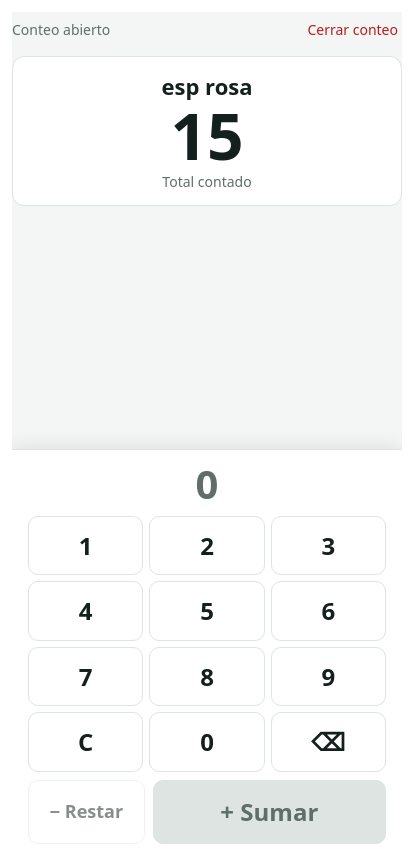
Test: Conteo · con un conteo abierto (teclado para una mano) › restar 5 (menos que el total) envía −5
The image size is (414, 856).
Click the button "5" at (207, 611), box x1=149 y1=581 x2=265 y2=641
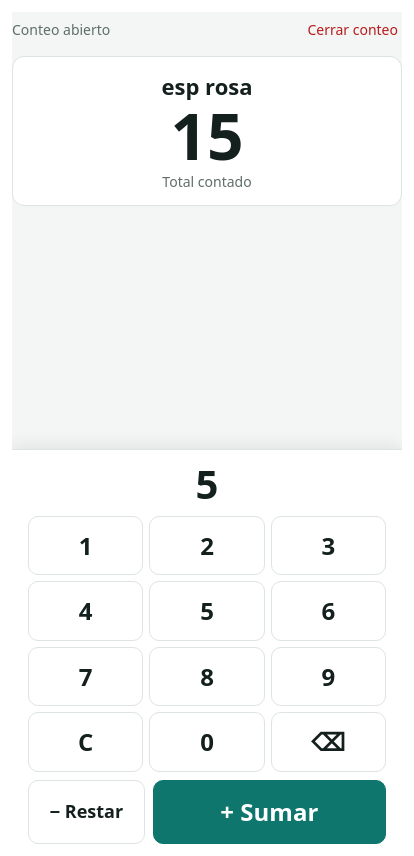
Click the button "− Restar" at (86, 812), box x1=28 y1=780 x2=145 y2=844
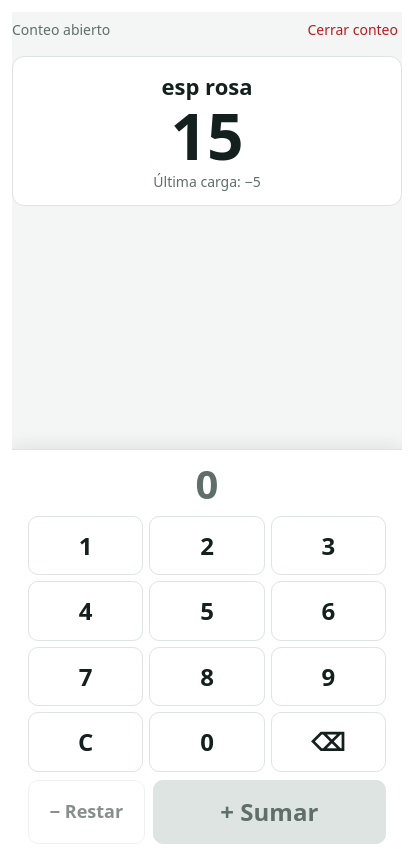
Expected: the text with class "muted" reads "Última carga: −5", x1=153 y1=172 x2=261 y2=191
